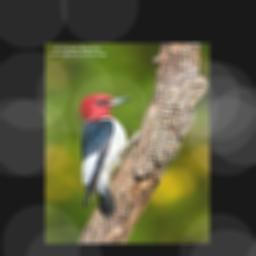Woodpecker: (75, 94, 144, 228)
